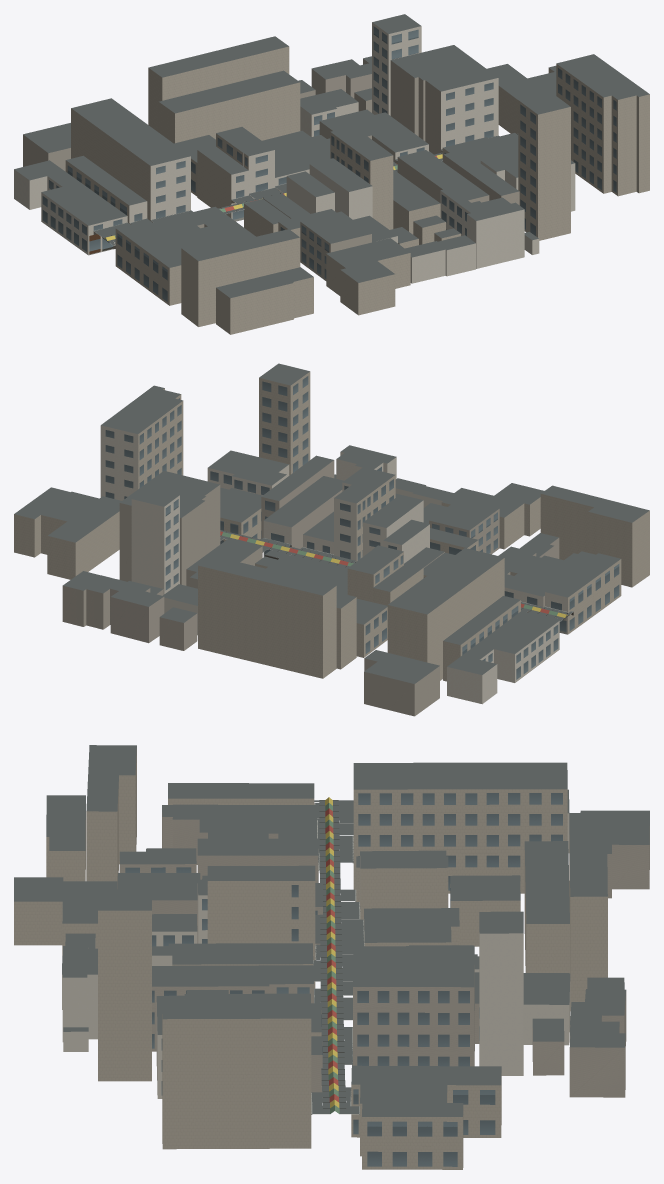
3 renders of one model, top to bottom at view 1: azimuth 30°, elevation 25°; view 2: azimuth 150°, elevation 25°; view 3: azimuth 270°, elevation 25°, orthographic. The views are drawn at different scales.
Visible parts, largest first — view 1: cell-e003-n001_base_roof, cell-e003-n001_base_stone, cell-e003-n001_base_plaster, cell-e003-n001_base_glass, cell-e003-n001_base_tile-wall, cell-e003-n001_base_Canopy_roof; view 2: cell-e003-n001_base_roof, cell-e003-n001_base_stone, cell-e003-n001_base_plaster, cell-e003-n001_base_tile-wall, cell-e003-n001_base_glass, cell-e003-n001_base_Canopy_roof; view 3: cell-e003-n001_base_roof, cell-e003-n001_base_stone, cell-e003-n001_base_tile-wall, cell-e003-n001_base_glass, cell-e003-n001_base_plaster, cell-e003-n001_base_Canopy_roof, cell-e003-n001_base_Canopy_arcade-green, cell-e003-n001_base_Canopy_arcade-gold, cell-e003-n001_base_Canopy_arcade-red, cell-e003-n001_base_Canopy_frame.
Part boxes in pixels (box(x1,y1,x2,y2)): cell-e003-n001_base_roof: box(14, 14, 649, 298); cell-e003-n001_base_stone: box(65, 46, 649, 334); cell-e003-n001_base_plaster: box(14, 22, 575, 283); cell-e003-n001_base_glass: box(42, 26, 616, 301); cell-e003-n001_base_tile-wall: box(23, 59, 519, 280); cell-e003-n001_base_Canopy_roof: box(94, 133, 518, 244); cell-e003-n001_base_roof: box(14, 363, 649, 683); cell-e003-n001_base_stone: box(14, 372, 649, 681); cell-e003-n001_base_plaster: box(100, 425, 567, 704); cell-e003-n001_base_tile-wall: box(62, 460, 566, 716); cell-e003-n001_base_glass: box(105, 376, 619, 679); cell-e003-n001_base_Canopy_roof: box(220, 530, 573, 621); cell-e003-n001_base_roof: box(14, 745, 649, 1116); cell-e003-n001_base_stone: box(14, 748, 607, 1169); cell-e003-n001_base_tile-wall: box(119, 812, 649, 1097); cell-e003-n001_base_glass: box(125, 793, 562, 1166); cell-e003-n001_base_plaster: box(62, 798, 570, 1098); cell-e003-n001_base_Canopy_roof: box(311, 800, 364, 1113); cell-e003-n001_base_Canopy_arcade-green: box(325, 803, 339, 1113); cell-e003-n001_base_Canopy_arcade-gold: box(325, 797, 339, 1108); cell-e003-n001_base_Canopy_arcade-red: box(325, 808, 338, 1102); cell-e003-n001_base_Canopy_frame: box(319, 800, 346, 1108).
Size of the model in its own units: 109 by 25.37 by 85.69.
14 materials, 6 textured.
